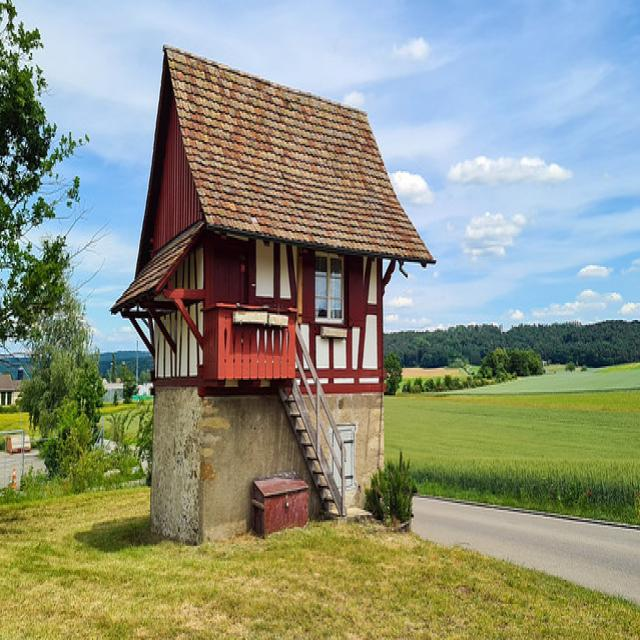building: (109, 38, 438, 556)
